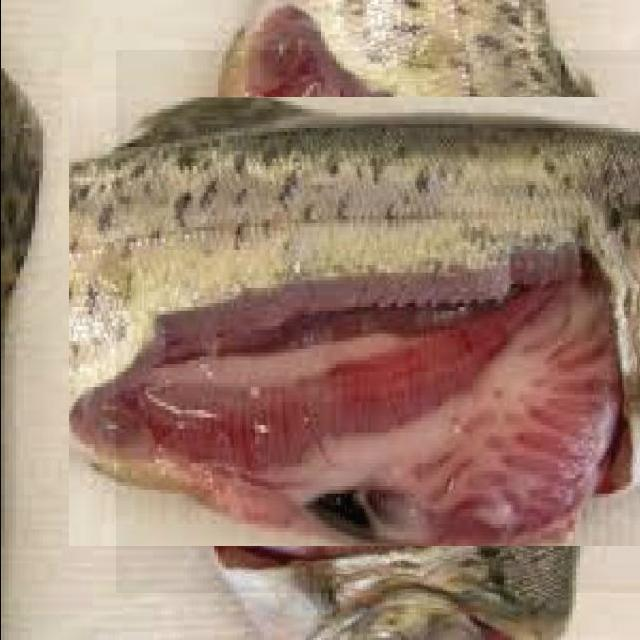EUS Disease: (115, 50, 640, 593)
